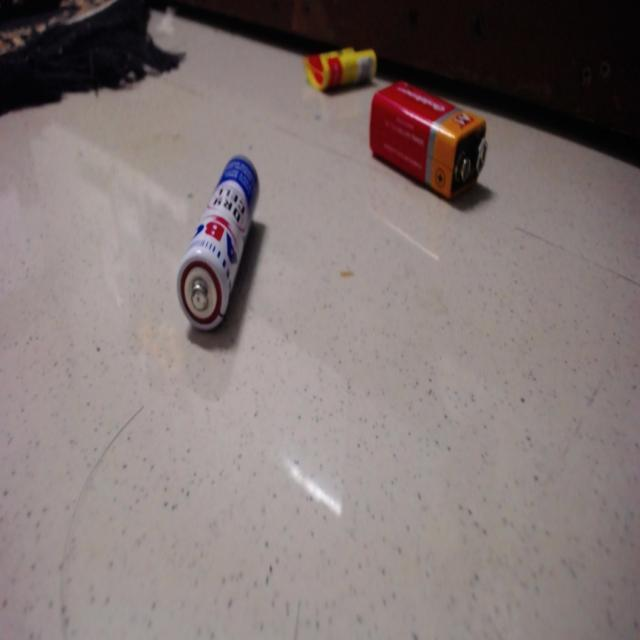9V: (356, 68, 498, 220)
AA: (171, 138, 270, 344)
